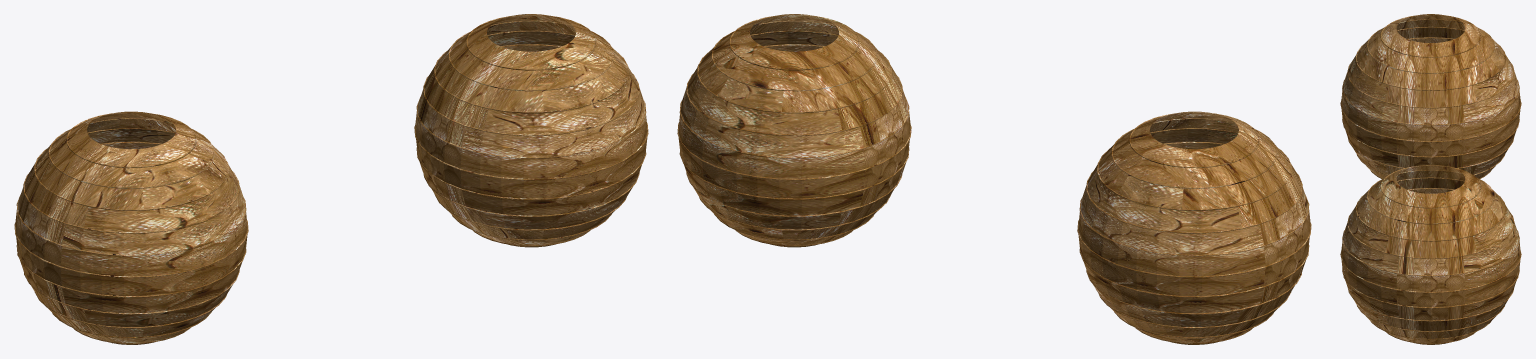
File: _mainm2_Object11.obj
3 renders of one model, left to right at view 1: azimuth 30°, elevation 25°; view 2: azimuth 150°, elevation 25°; view 3: azimuth 270°, elevation 25°, orthographic. The views are drawn at different scales.
Parts seen in each view (by area): view 1: _mainm2_Object11; view 2: _mainm2_Object11; view 3: _mainm2_Object11.
Boxes of the visible parts, left/top/right/bottom form: _mainm2_Object11: left=14, top=14, right=648, bottom=344; _mainm2_Object11: left=677, top=14, right=1311, bottom=344; _mainm2_Object11: left=1340, top=14, right=1521, bottom=344.
Size of the model in its own units: 1194 by 370 by 402.
